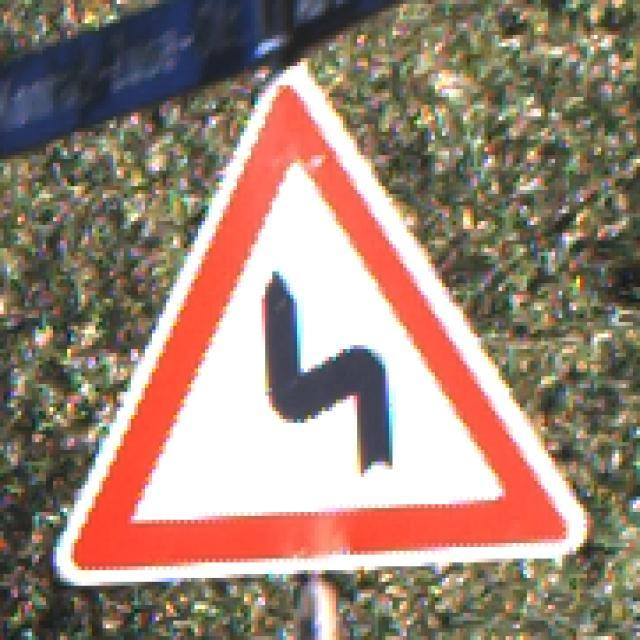left reverse bend: (53, 60, 593, 570)
